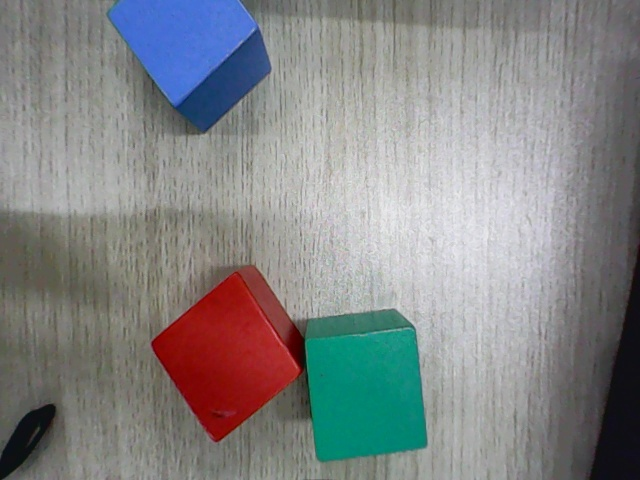upside of big cube: (150, 271, 303, 444), (304, 324, 427, 464), (107, 0, 259, 109)
